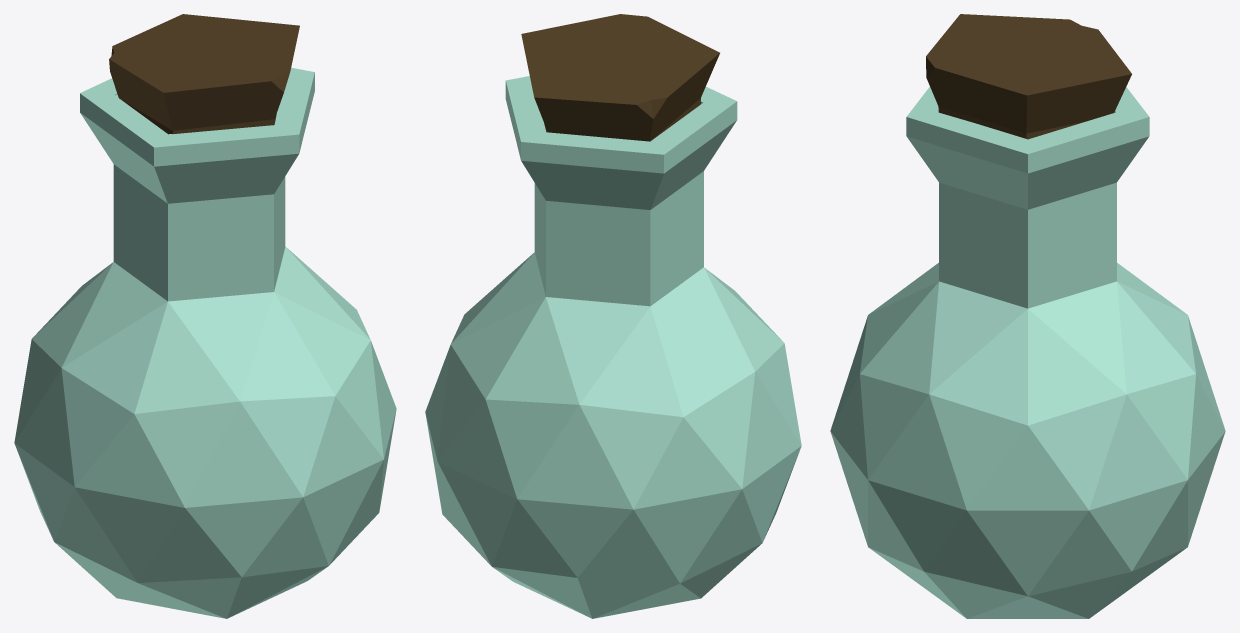
Rendered from LP_Potion.fbx.
3 views of the same model, side by side, from view 1: azimuth 30°, elevation 25°; view 2: azimuth 150°, elevation 25°; view 3: azimuth 270°, elevation 25° (orthographic). The views are drawn at different scales.
Parts seen in each view (by area): view 1: Sise, Sise.002; view 2: Sise, Sise.002; view 3: Sise, Sise.002.
Part boxes in pixels (box(x1,y1,x2,y2)): Sise: box(14, 67, 396, 618); Sise.002: box(109, 14, 299, 134); Sise: box(425, 76, 801, 618); Sise.002: box(521, 14, 719, 141); Sise: box(830, 87, 1225, 618); Sise.002: box(926, 14, 1131, 139).
Bounding box in the file's own units: 190 × 314 × 200.
